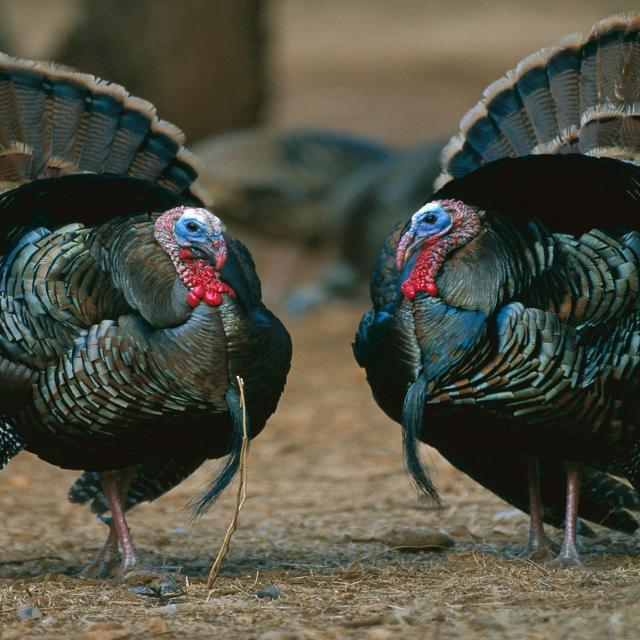Turkey: (0, 17, 298, 586), (356, 17, 640, 578)
